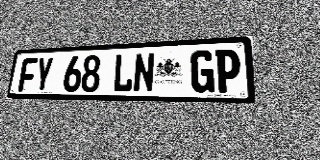6: (62, 56, 83, 92)
8: (80, 55, 102, 92)
F: (18, 58, 38, 92)
G: (190, 50, 214, 93)
L: (112, 53, 134, 92)
N: (133, 52, 155, 93)
P: (215, 49, 241, 93)
Y: (33, 57, 54, 92)
